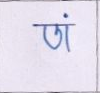anusvara: (64, 14, 68, 17)
